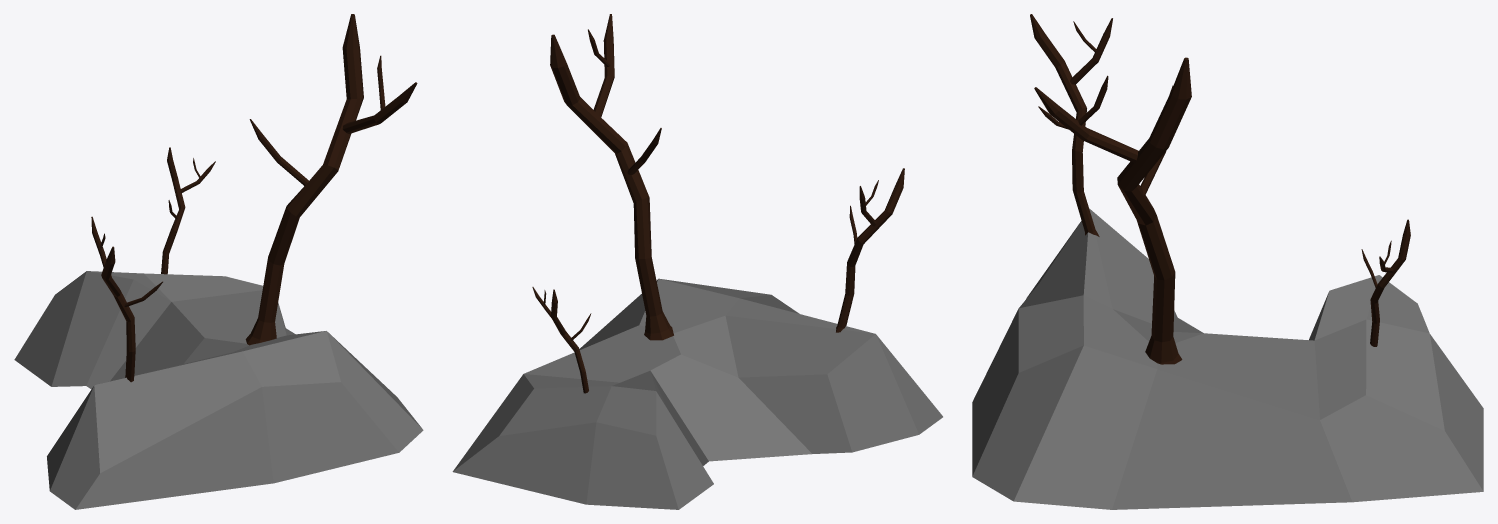
File: Rock_Tree_3.fbx
3 renders of one model, left to right at view 1: azimuth 30°, elevation 25°; view 2: azimuth 150°, elevation 25°; view 3: azimuth 270°, elevation 25°, orthographic. The views are drawn at different scales.
Parts seen in each view (by area): view 1: Cube.001, Cylinder.001, Cylinder.003, Cylinder.002; view 2: Cube.001, Cylinder.001, Cylinder.003, Cylinder.002; view 3: Cube.001, Cylinder.001, Cylinder.003, Cylinder.002.
Part boxes in pixels (bbox=[...]): Cube.001: bbox=[14, 271, 423, 509]; Cylinder.001: bbox=[245, 14, 417, 345]; Cylinder.003: bbox=[91, 216, 162, 382]; Cylinder.002: bbox=[161, 147, 215, 274]; Cube.001: bbox=[452, 278, 942, 509]; Cylinder.001: bbox=[550, 14, 673, 340]; Cylinder.003: bbox=[836, 168, 904, 332]; Cylinder.002: bbox=[532, 287, 591, 393]; Cube.001: bbox=[972, 209, 1483, 509]; Cylinder.001: bbox=[1034, 57, 1191, 364]; Cylinder.003: bbox=[1030, 14, 1112, 236]; Cylinder.002: bbox=[1361, 219, 1410, 346].
Bounding box in the file's own units: 2133 × 2078 × 2172.
